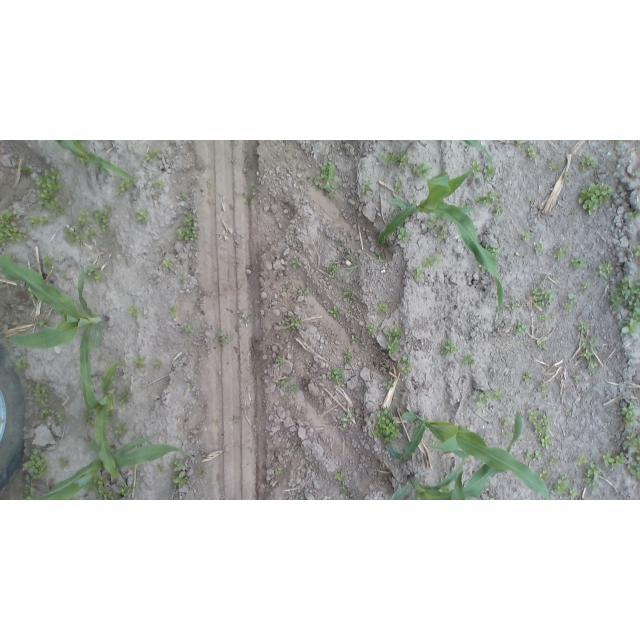Maize: (377, 163, 504, 307), (385, 411, 551, 497), (390, 410, 524, 500), (37, 433, 192, 500), (1, 253, 110, 348), (82, 324, 123, 479), (56, 140, 134, 182), (463, 140, 493, 164)
Weeds: (25, 380, 68, 425), (31, 167, 65, 218), (576, 180, 612, 216), (527, 407, 556, 451), (610, 278, 640, 318), (371, 407, 402, 443), (63, 208, 94, 243), (314, 159, 343, 195), (0, 211, 28, 245), (23, 447, 48, 479), (92, 204, 117, 235), (580, 334, 601, 370), (87, 476, 118, 500), (583, 460, 604, 489), (380, 150, 408, 171), (618, 405, 640, 431), (179, 212, 198, 242), (550, 472, 569, 501), (531, 286, 557, 307), (384, 325, 402, 355), (603, 451, 628, 472), (476, 391, 504, 408), (344, 251, 362, 277), (325, 366, 347, 387), (83, 264, 104, 285), (620, 320, 640, 341), (410, 161, 433, 179), (12, 354, 30, 377), (322, 259, 342, 278), (626, 456, 640, 482), (441, 339, 460, 357), (623, 433, 640, 453), (143, 146, 163, 163), (474, 189, 498, 203), (28, 215, 52, 229), (578, 155, 597, 172), (41, 254, 59, 271), (423, 253, 443, 268), (595, 263, 614, 278), (482, 163, 496, 183), (135, 208, 151, 225), (514, 321, 532, 336), (117, 388, 132, 405), (433, 225, 451, 239), (378, 301, 396, 315), (571, 258, 590, 271), (173, 458, 188, 474), (503, 298, 521, 311), (117, 181, 132, 196), (112, 422, 127, 437), (556, 245, 569, 262), (400, 353, 411, 373), (18, 485, 32, 500), (427, 216, 443, 229), (343, 286, 356, 302), (172, 475, 189, 487), (342, 346, 353, 364), (549, 160, 564, 173), (340, 413, 353, 428), (461, 352, 476, 365), (134, 355, 147, 370), (219, 332, 234, 345), (483, 245, 502, 255), (285, 385, 302, 396), (398, 227, 411, 241), (120, 484, 133, 497), (332, 470, 348, 480), (536, 338, 549, 350), (525, 146, 537, 159), (300, 284, 313, 296), (288, 316, 301, 328), (472, 160, 481, 177), (276, 377, 288, 389), (520, 231, 533, 242), (536, 382, 549, 393), (20, 165, 33, 176), (169, 304, 180, 317), (361, 179, 371, 193), (492, 204, 504, 215), (331, 309, 343, 320), (282, 281, 293, 293), (578, 456, 589, 468), (57, 458, 69, 469), (566, 292, 579, 302), (250, 183, 264, 192), (197, 467, 208, 478), (549, 456, 561, 466), (577, 321, 587, 333), (242, 194, 252, 206), (366, 323, 378, 333), (501, 414, 511, 426), (534, 450, 543, 463), (154, 464, 167, 473), (34, 317, 47, 326), (629, 209, 640, 219), (413, 267, 423, 278), (128, 305, 139, 315), (274, 466, 283, 478), (569, 488, 578, 500), (153, 360, 165, 369), (533, 242, 541, 255), (524, 450, 532, 463), (393, 181, 403, 191), (291, 257, 301, 267), (339, 483, 349, 493), (540, 469, 550, 479), (275, 356, 286, 365), (183, 323, 192, 334), (153, 180, 166, 187), (179, 192, 190, 200), (633, 244, 640, 256), (351, 334, 360, 343), (563, 303, 573, 311), (384, 381, 394, 389), (540, 314, 548, 323), (502, 429, 510, 438), (187, 382, 195, 391), (163, 260, 172, 268), (243, 317, 253, 324), (524, 374, 532, 382), (515, 141, 523, 149), (565, 173, 572, 182), (631, 170, 640, 177), (610, 140, 625, 144), (179, 273, 186, 281), (377, 256, 386, 262), (205, 179, 211, 188), (565, 410, 572, 417), (582, 282, 589, 288), (551, 311, 557, 318), (572, 374, 580, 379), (530, 199, 535, 204)
